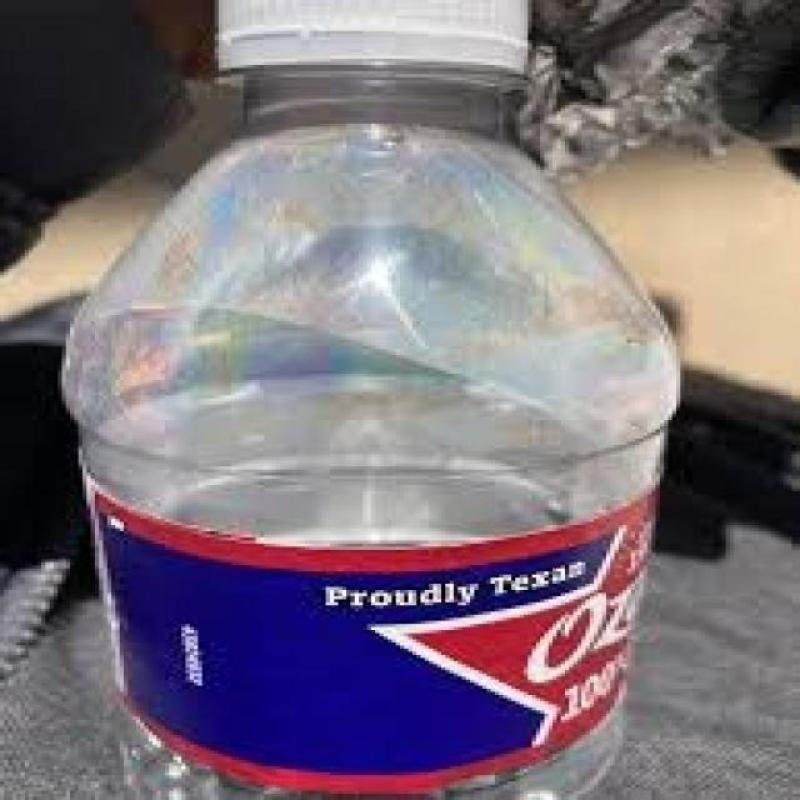botella: (64, 0, 686, 800)
